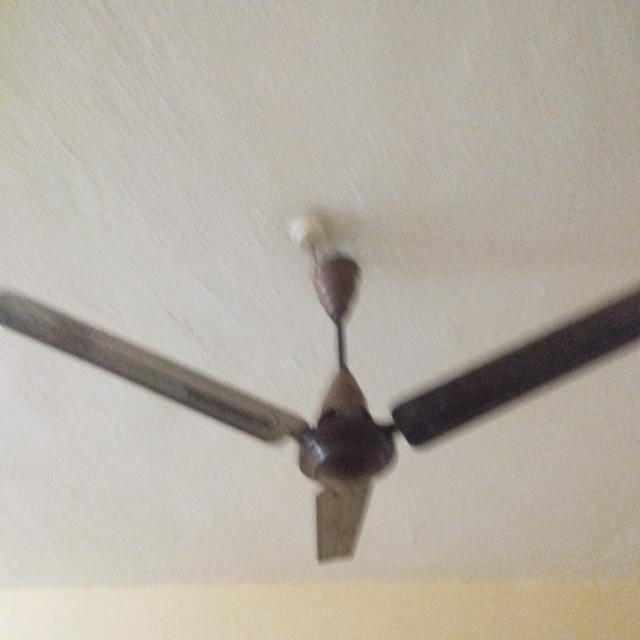fan_off: (3, 249, 640, 572)
